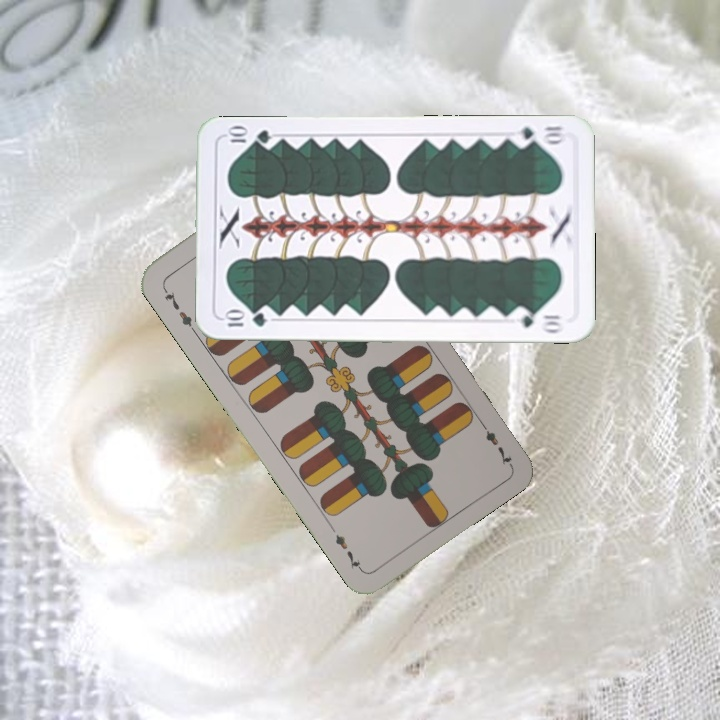E7: (158, 283, 198, 335), (475, 416, 514, 468)
G10: (509, 122, 568, 149), (221, 309, 269, 329)
